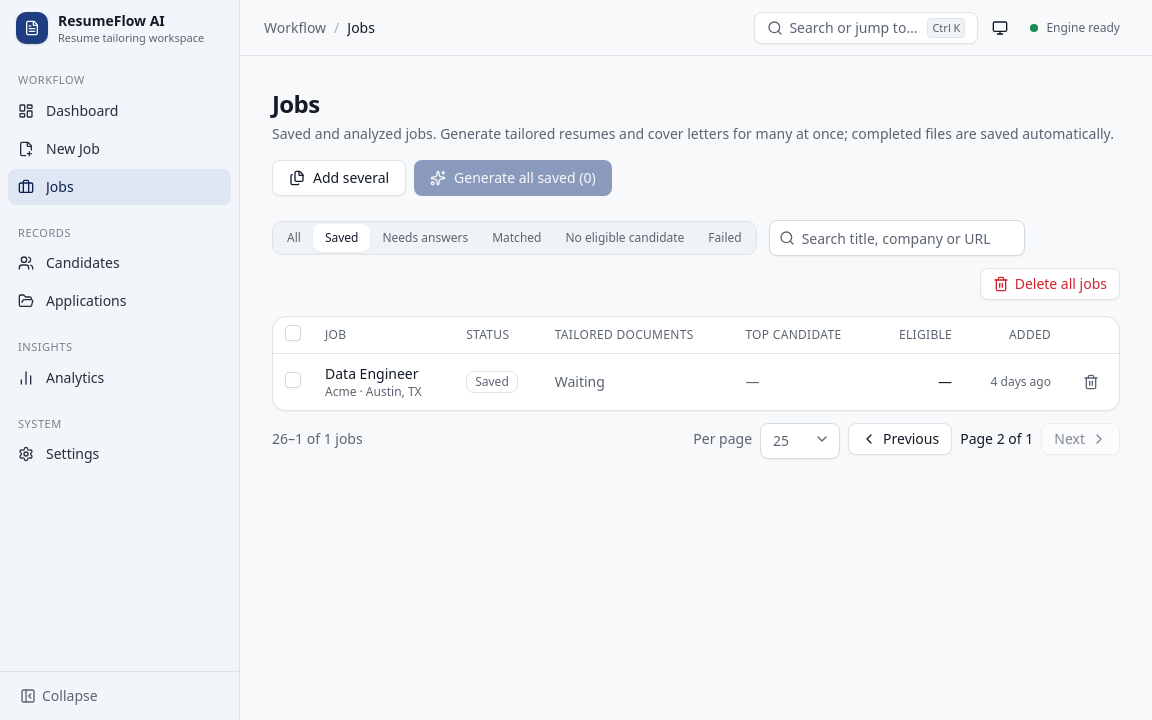
Test: deleting jobs from the workspace › keeps the bulk-delete dialog open when background work prevents deletion
Step 1. Click the button "Delete all jobs" → {"x": 1050, "y": 284}, box [980,268,1120,300]
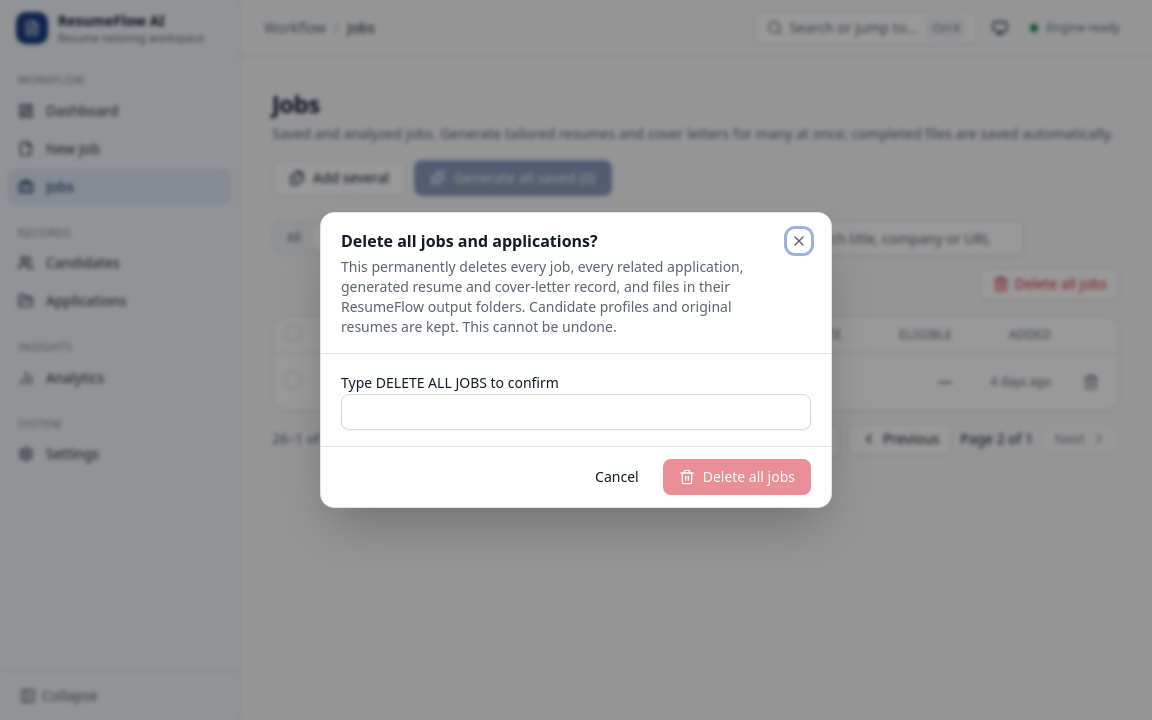
Step 2. Type "DELETE ALL JOBS" into the field labelled "Type DELETE ALL JOBS to confirm" → {"x": 576, "y": 412}, box [341,394,811,430]
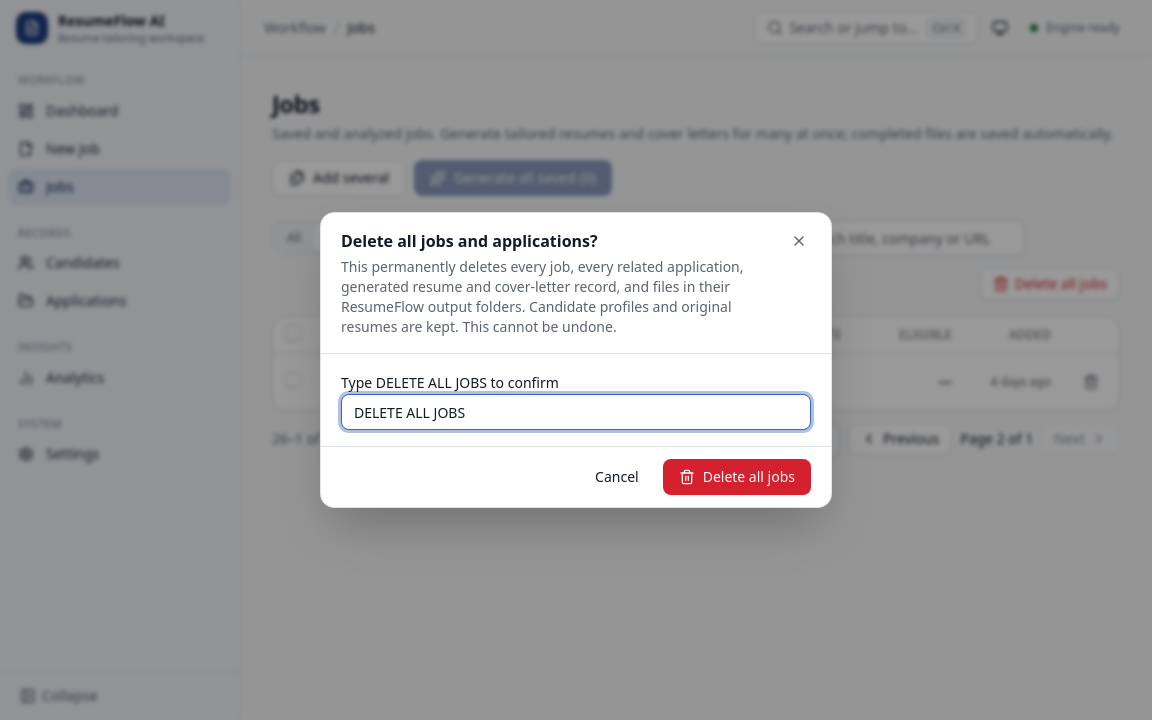
Step 3. Click the button "Delete all jobs" → {"x": 737, "y": 477}, box [663,459,811,495]
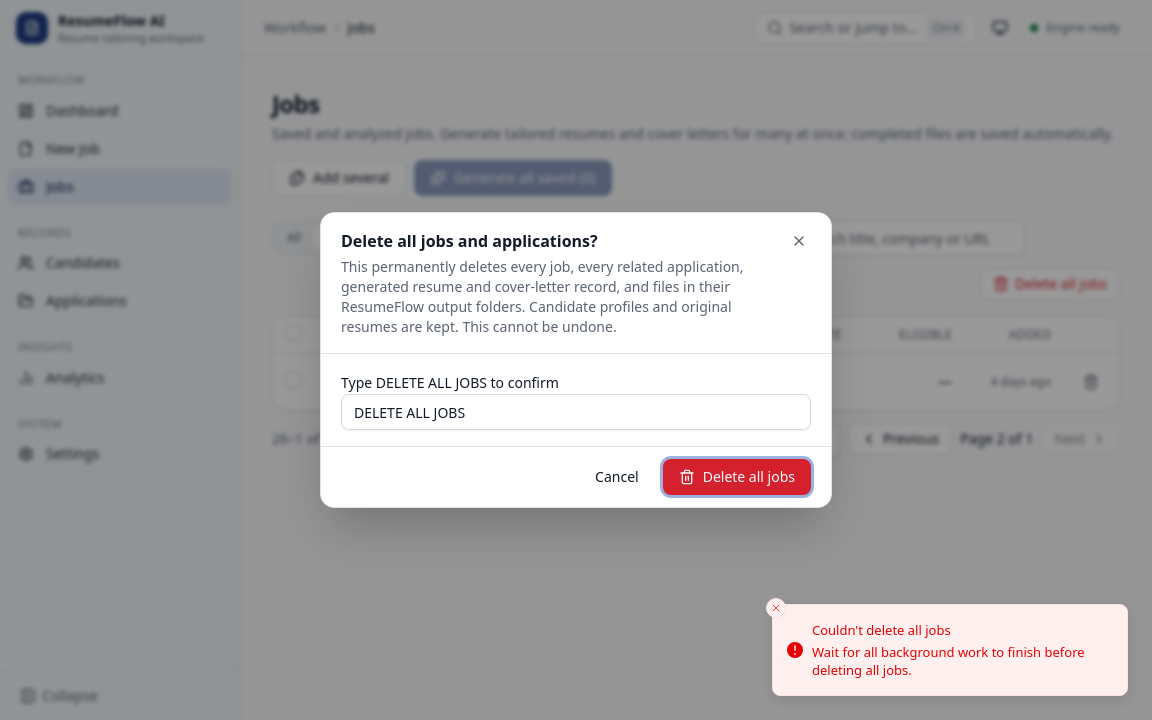
Now the dialog "Delete all jobs and applications?" is shown, box [320,212,832,508]
Now the text "Couldn't delete all jobs" is shown, box [812,621,951,639]
Now the text "Wait for all background work to finish before deleting all jobs." is shown, box [812,643,1111,679]
